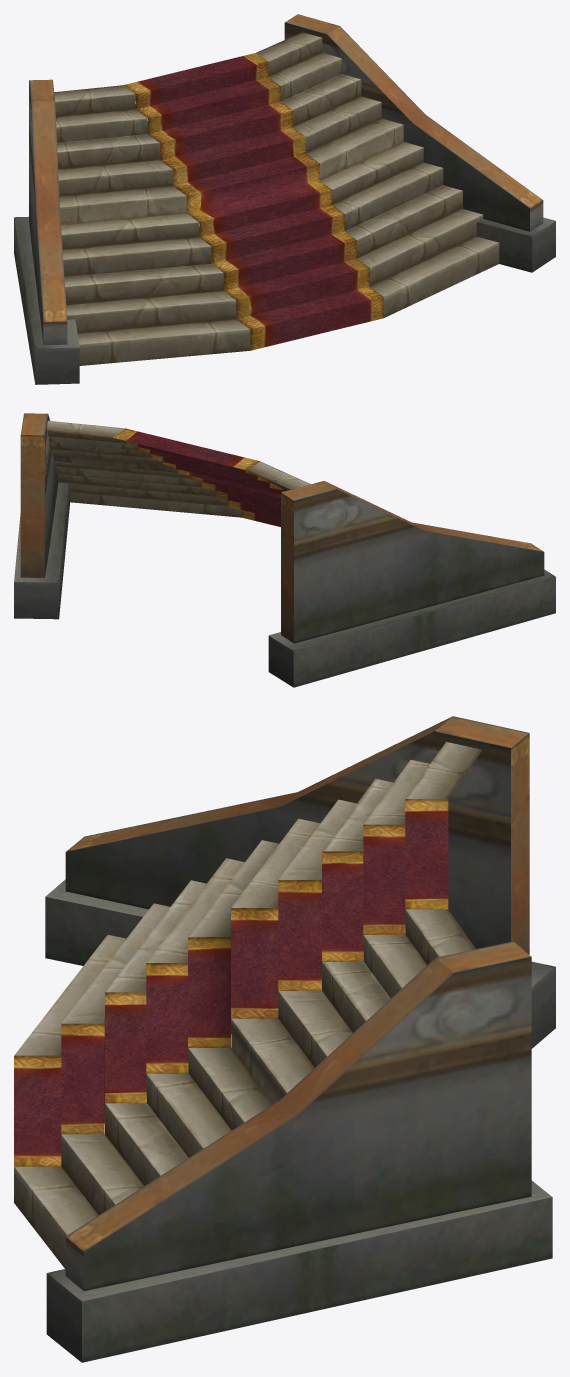
Rendered from environment_Building_zhucheng_dizhuan_001_c.FBX.
3 renders of one model, top to bottom at view 1: azimuth 30°, elevation 25°; view 2: azimuth 150°, elevation 25°; view 3: azimuth 270°, elevation 25°, orthographic. The views are drawn at different scales.
Parts seen in each view (by area): view 1: environment_Building_zhucheng_dizhuan_001_c01, environment_Building_zhucheng_dizhuan_001_c02, environment_Building_zhucheng_dizhuan_001_c03; view 2: environment_Building_zhucheng_dizhuan_001_c03, environment_Building_zhucheng_dizhuan_001_c01, environment_Building_zhucheng_dizhuan_001_c02; view 3: environment_Building_zhucheng_dizhuan_001_c03, environment_Building_zhucheng_dizhuan_001_c01, environment_Building_zhucheng_dizhuan_001_c02.
Part boxes in pixels (x1=…): environment_Building_zhucheng_dizhuan_001_c01: x1=54, y1=32, x2=499, y2=365; environment_Building_zhucheng_dizhuan_001_c02: x1=123, y1=53, x2=383, y2=350; environment_Building_zhucheng_dizhuan_001_c03: x1=14, y1=14, x2=555, y2=384; environment_Building_zhucheng_dizhuan_001_c03: x1=14, y1=413, x2=555, y2=687; environment_Building_zhucheng_dizhuan_001_c01: x1=46, y1=420, x2=310, y2=517; environment_Building_zhucheng_dizhuan_001_c02: x1=113, y1=428, x2=284, y2=526; environment_Building_zhucheng_dizhuan_001_c03: x1=45, y1=716, x2=555, y2=1362; environment_Building_zhucheng_dizhuan_001_c01: x1=14, y1=742, x2=482, y2=1268; environment_Building_zhucheng_dizhuan_001_c02: x1=14, y1=799, x2=448, y2=1166.
Size of the model in its own units: 1348 by 437 by 712.
